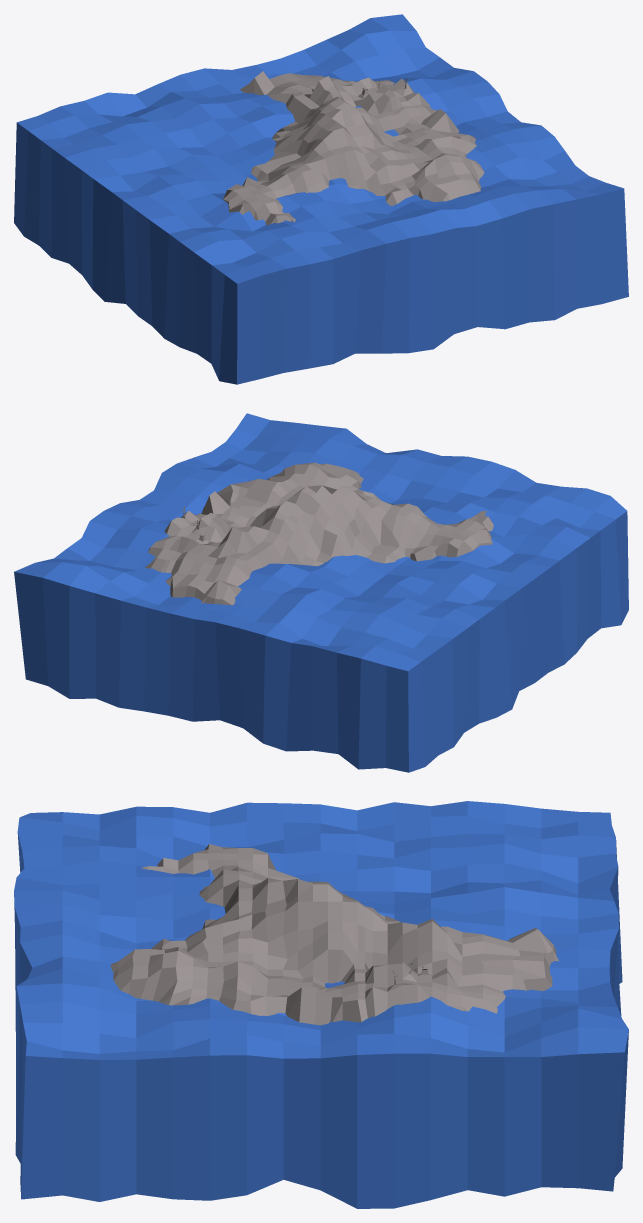
The model's file is ilha.fbx.
The picture shows the model from 3 angles, top to bottom: view 1: azimuth 30°, elevation 25°; view 2: azimuth 150°, elevation 25°; view 3: azimuth 270°, elevation 25°; orthographic projection. The views are drawn at different scales.
Visible parts, largest first — view 1: Plane, Landscape.002; view 2: Plane, Landscape.002; view 3: Plane, Landscape.002.
Boxes of the visible parts, x1,y1,x2,y2 form: Plane: (14, 14, 628, 384); Landscape.002: (223, 71, 484, 224); Plane: (14, 413, 628, 772); Landscape.002: (145, 462, 493, 605); Plane: (14, 801, 628, 1208); Landscape.002: (110, 844, 558, 1025).
Size of the model in its own units: 29.04 by 11.39 by 29.32.
